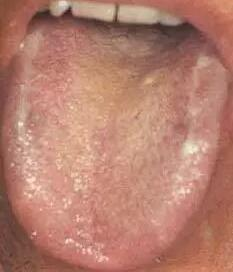baitaishe: (4, 24, 228, 271)
huangtaishe: (4, 24, 228, 271)
